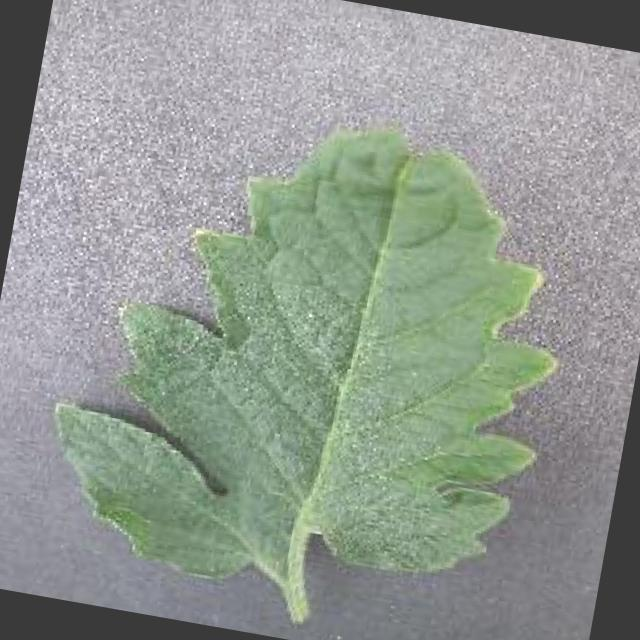healthy: (52, 122, 564, 620)
